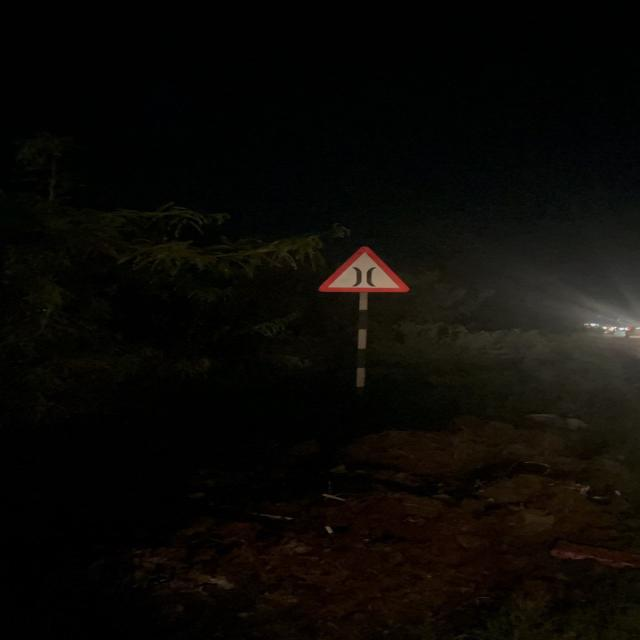Narrow_Bridge: (319, 248, 410, 292)
